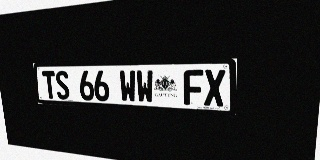6: (78, 70, 95, 101), (93, 70, 110, 101)
F: (183, 70, 203, 106)
S: (55, 71, 70, 100)
T: (42, 71, 57, 99)
W: (119, 70, 137, 103), (136, 70, 154, 103)
X: (204, 69, 225, 106)
